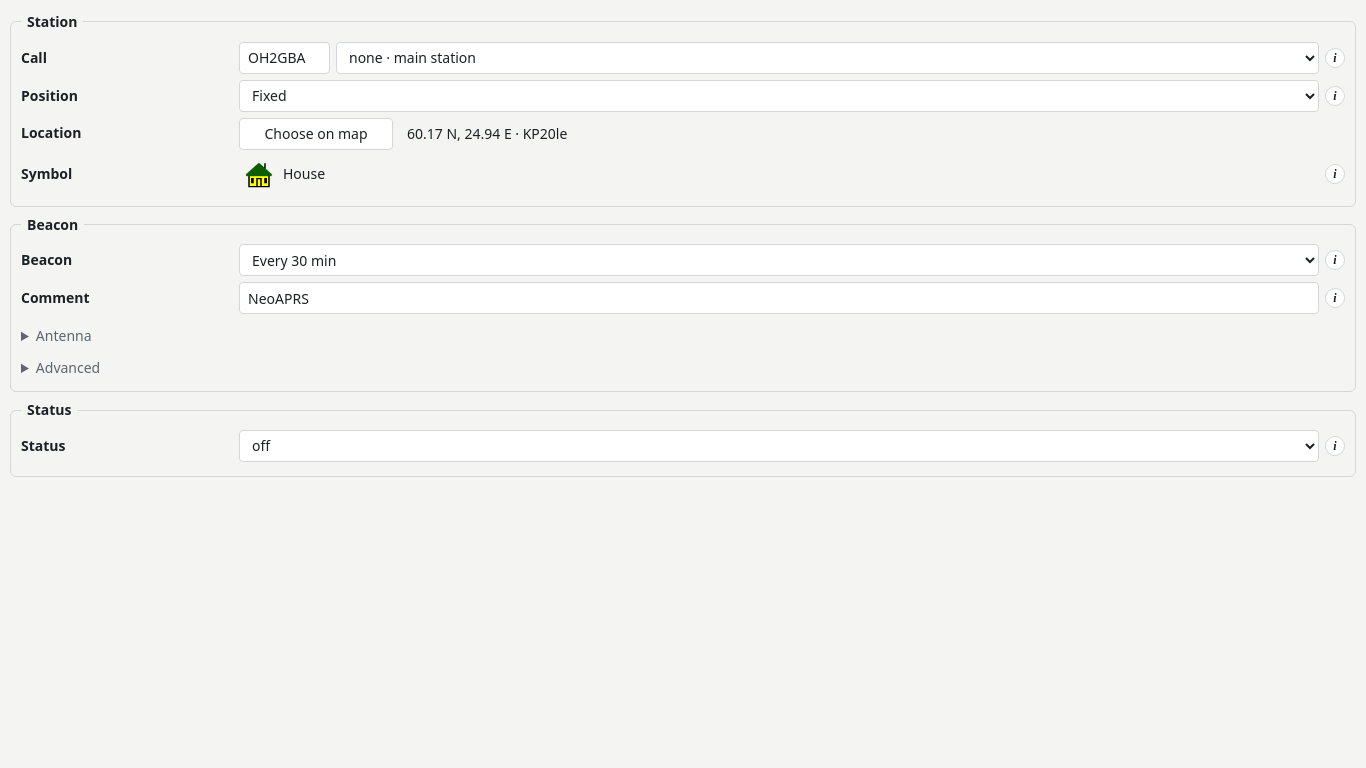
SettingsForm › typed fields › are never sent when the page finds them wrong: the reason is under the field and the text stays
Type "ABCD" into the field with id "set-station-call".
click(284, 58); type("ABCD")  # box [239, 42, 330, 74]
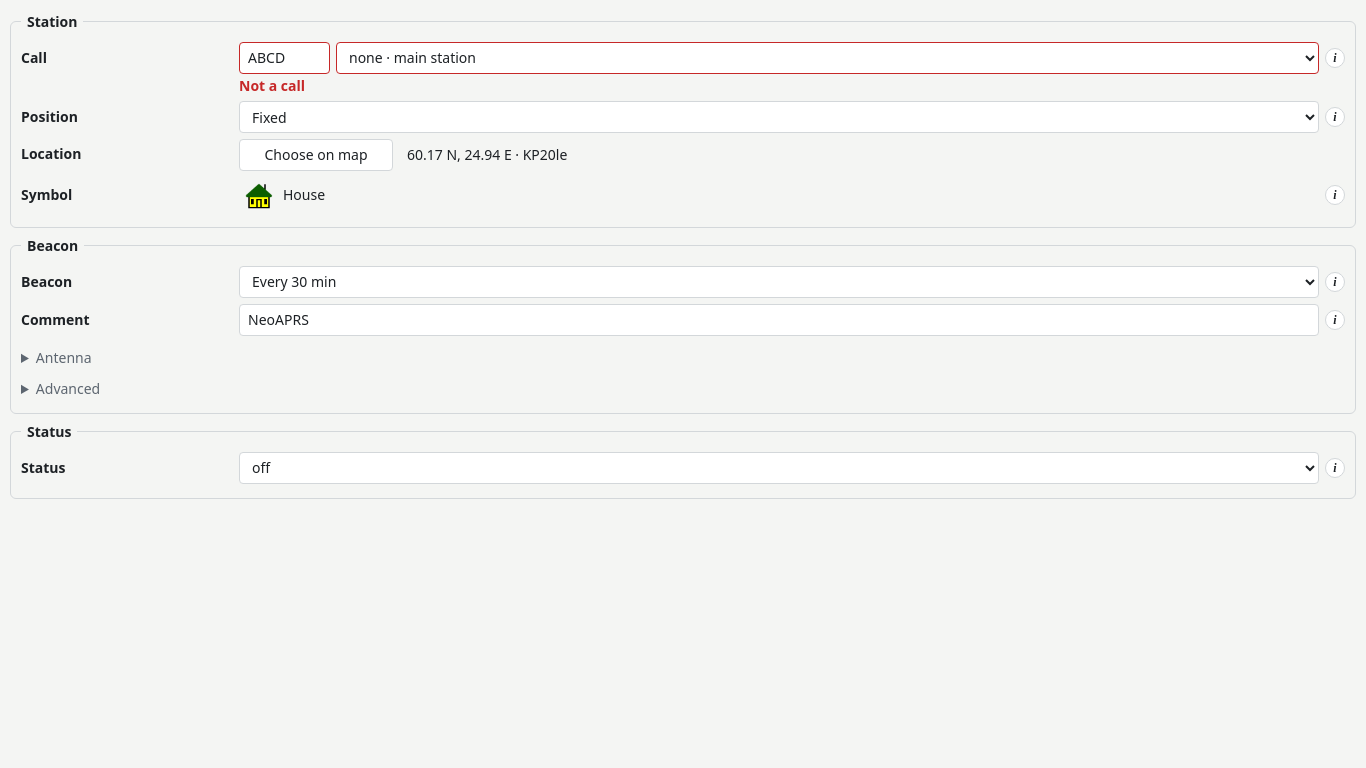
Click the button with class "location-place".
click(487, 155)  # box [403, 142, 1345, 168]
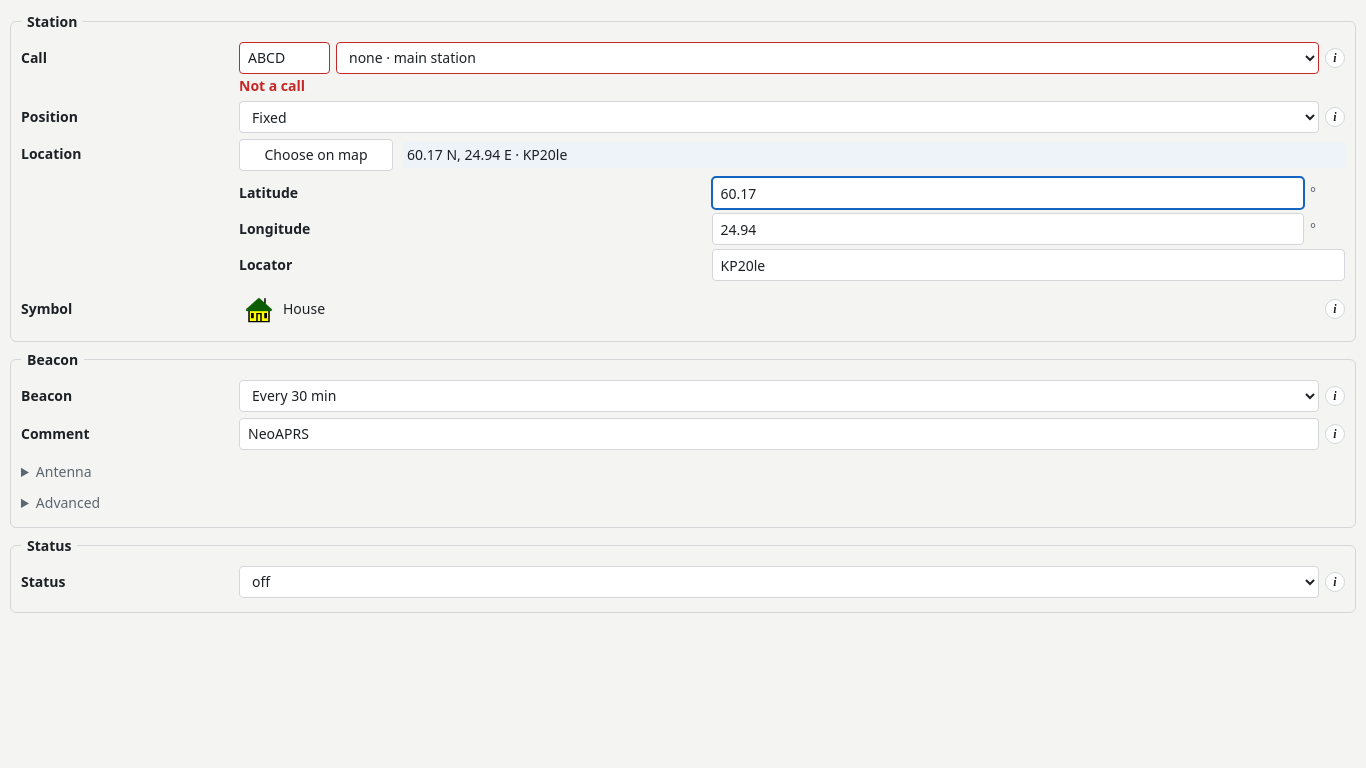
Type "95" into the field with id "set-station-lat".
click(1008, 193); type("95")  # box [712, 177, 1304, 209]
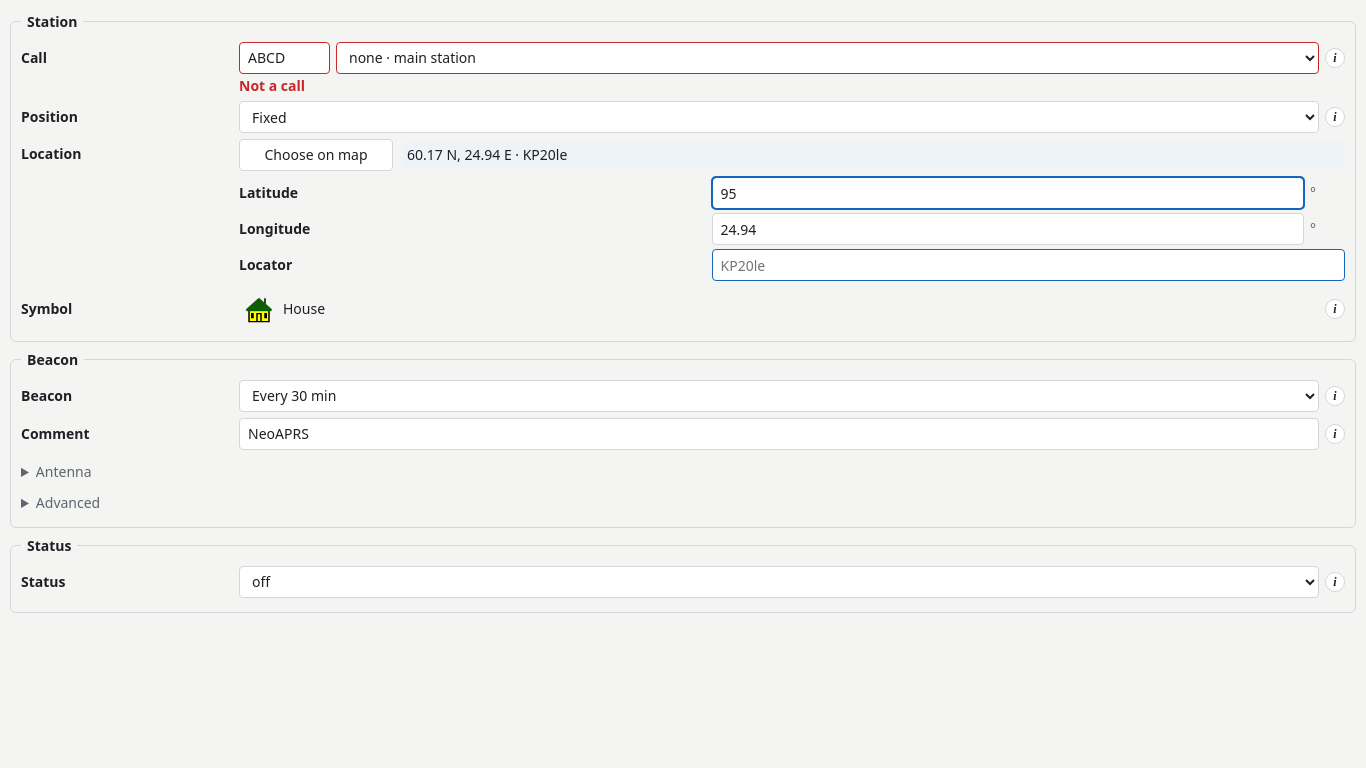
Leave the field with id "set-station-lat", box [712, 177, 1304, 209]
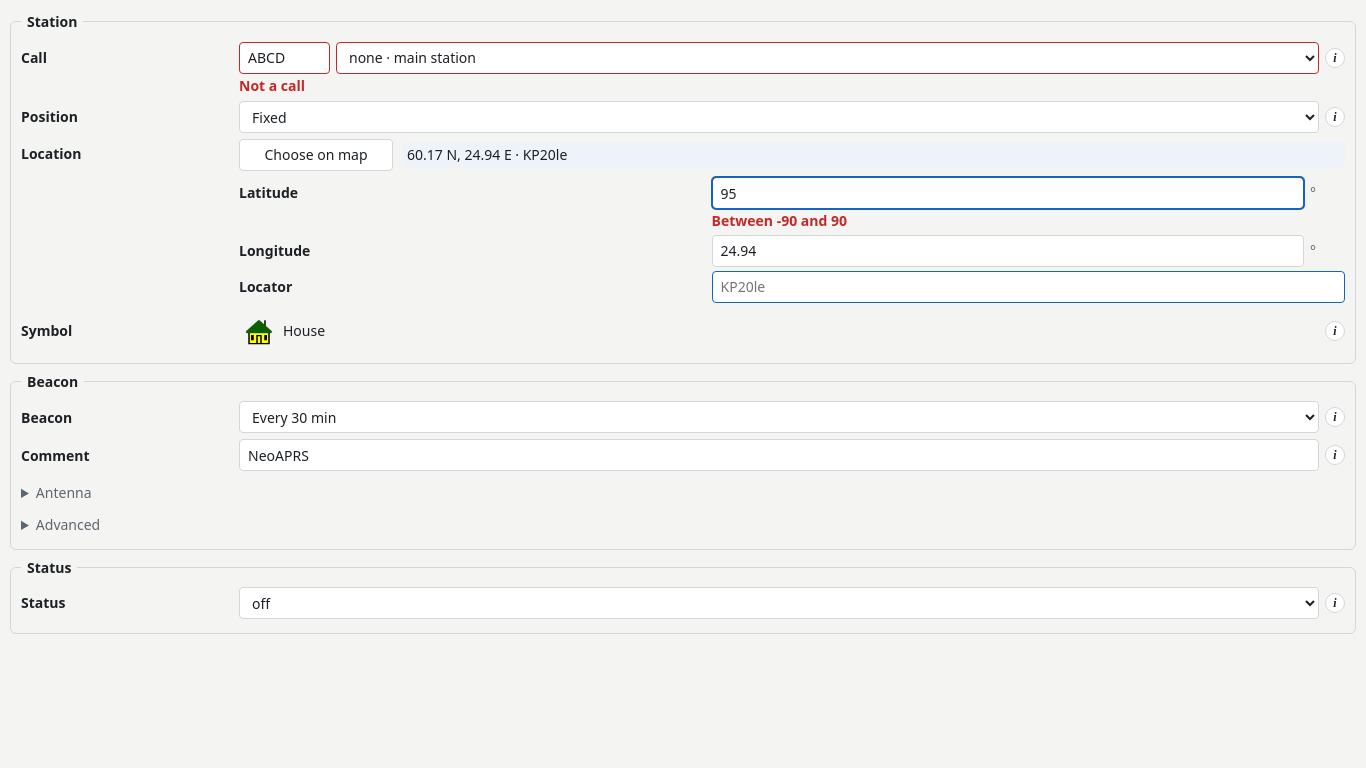
Check: the message with class "field-error" reads "Not a call", box [239, 76, 305, 95]
Check: the message with class "field-error" reads "Between -90 and 90", box [712, 211, 847, 230]
